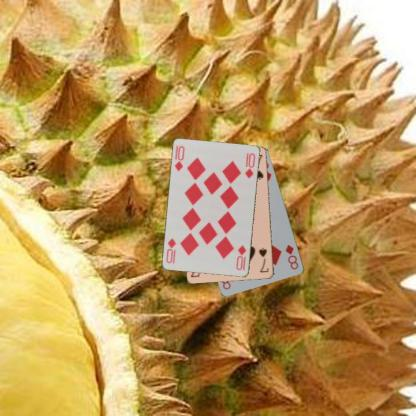10d: (172, 143, 186, 173), (234, 243, 247, 272)
7s: (256, 245, 270, 274)
8d: (283, 242, 300, 271)
